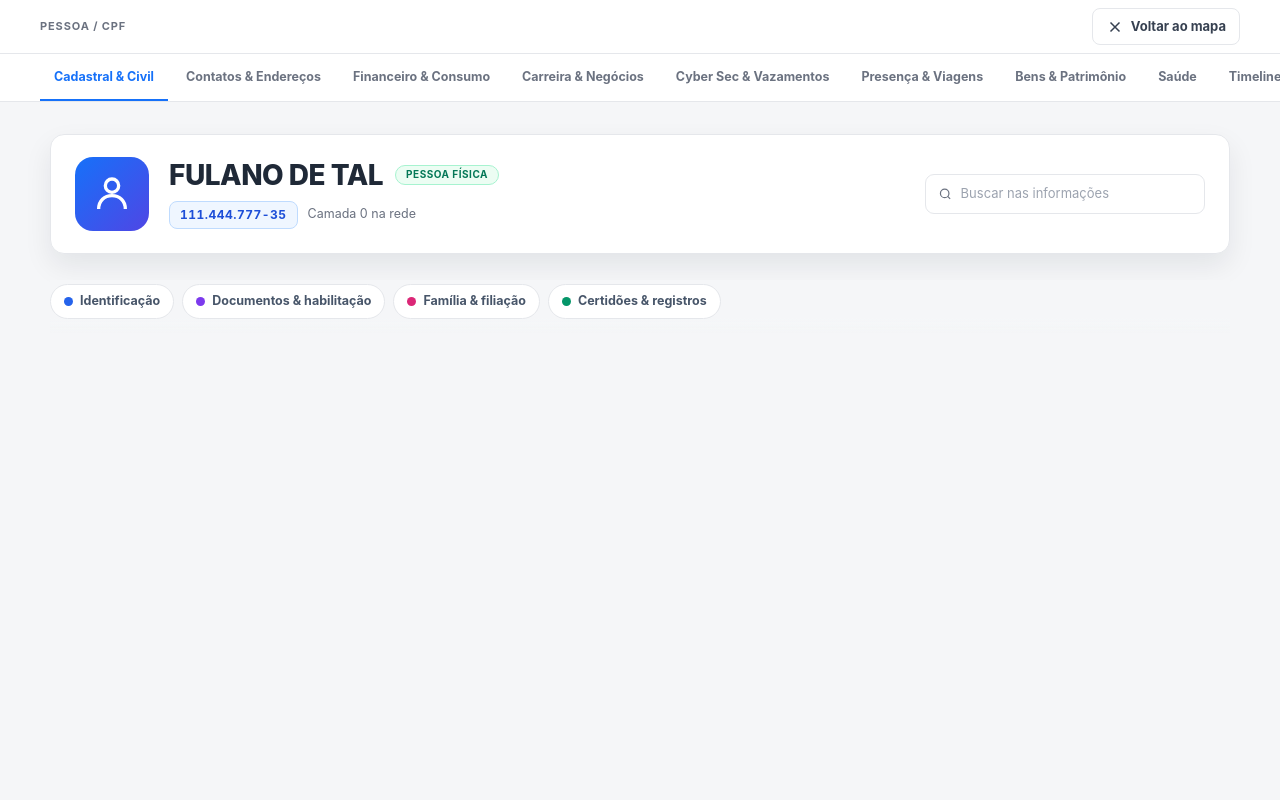
Test: EntityDetail — aba "Financeiro & Consumo" (cockpit + cartões) › IRPF vira linha de restituições e mantém os campos não curados
The width and height of the screenshot is (1280, 800).
Click the button "Financeiro & Consumo" at {"x": 422, "y": 77}, box x1=339 y1=54 x2=504 y2=101
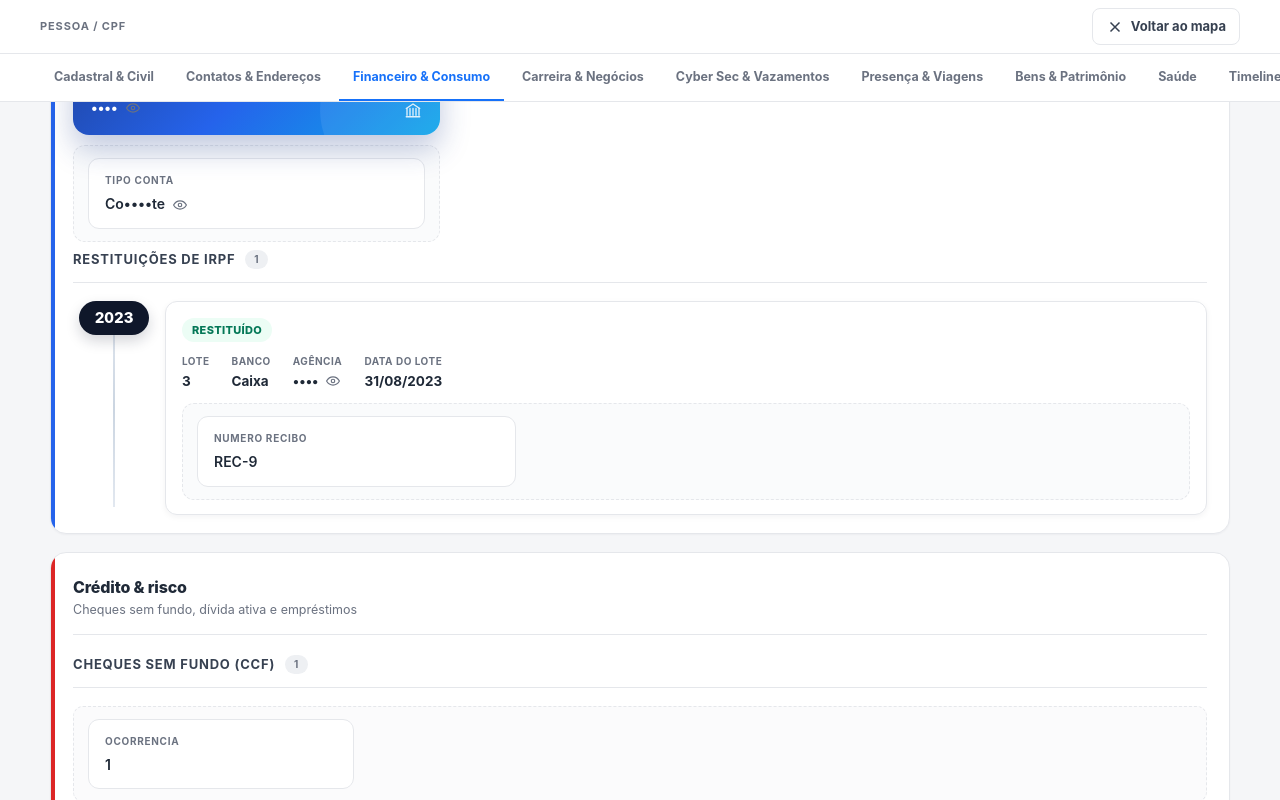
Expected: the text "Restituído" is shown, x1=182 y1=318 x2=272 y2=342
Expected: the text "2023" is shown, x1=79 y1=301 x2=149 y2=335
Expected: the text "Numero Recibo" is shown, x1=214 y1=432 x2=307 y2=444
